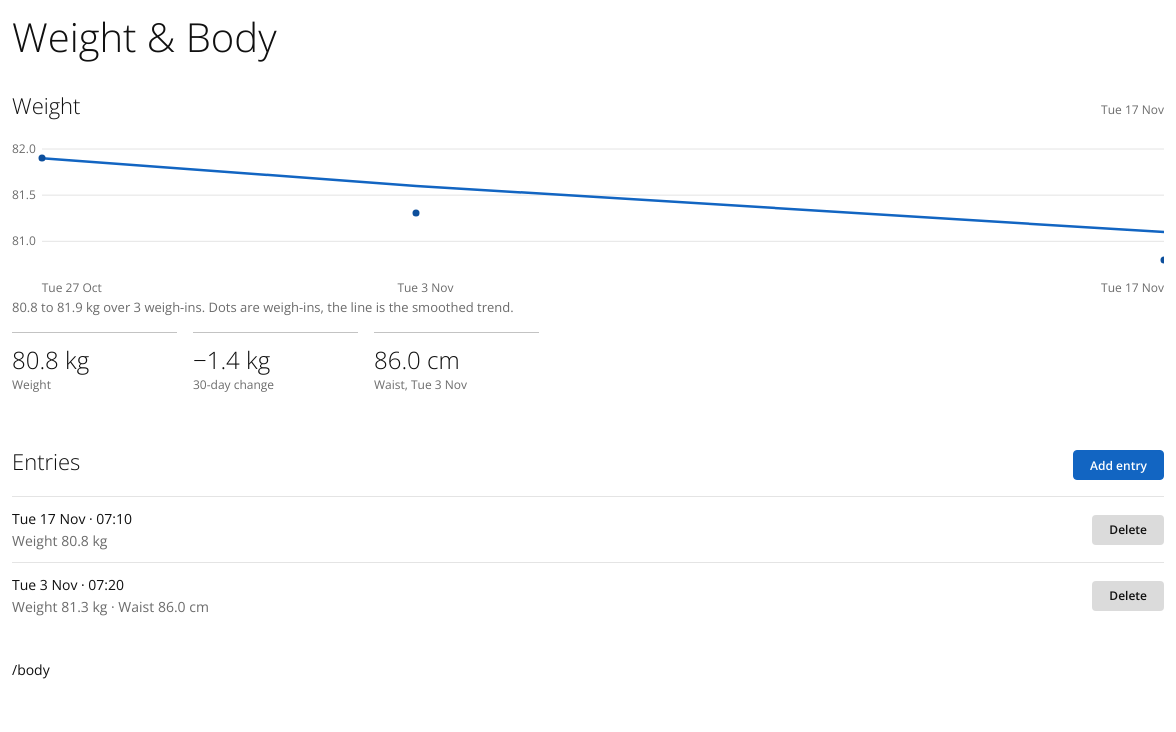
BodyPage (3k) › asks before deleting, and only then sends DELETE with the X-Nimrag header
Expected: the text "80.8 kg" is shown, [12,343,89,376]
Click the button "Delete" in the row of "Tue 17 Nov · 07:10".
click(1128, 530)  # box [1092,515,1164,545]
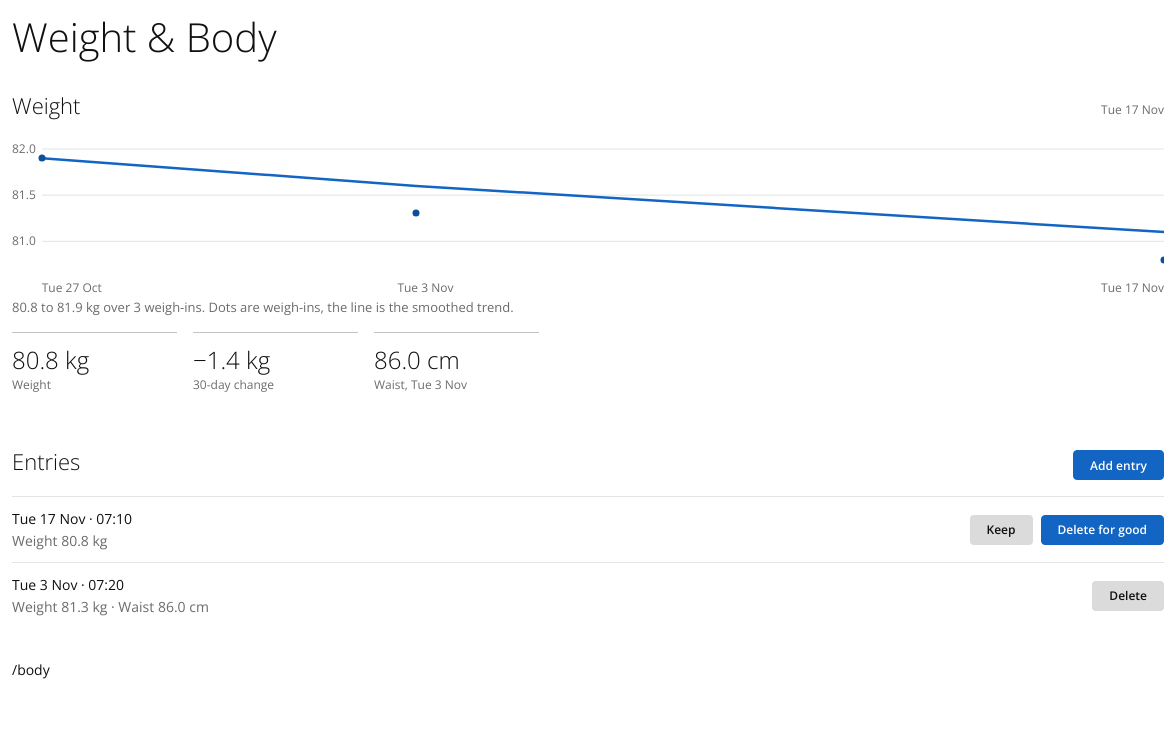
# changing one's mind sends nothing
Click the button "Keep".
click(1001, 530)  # box [970,515,1032,545]
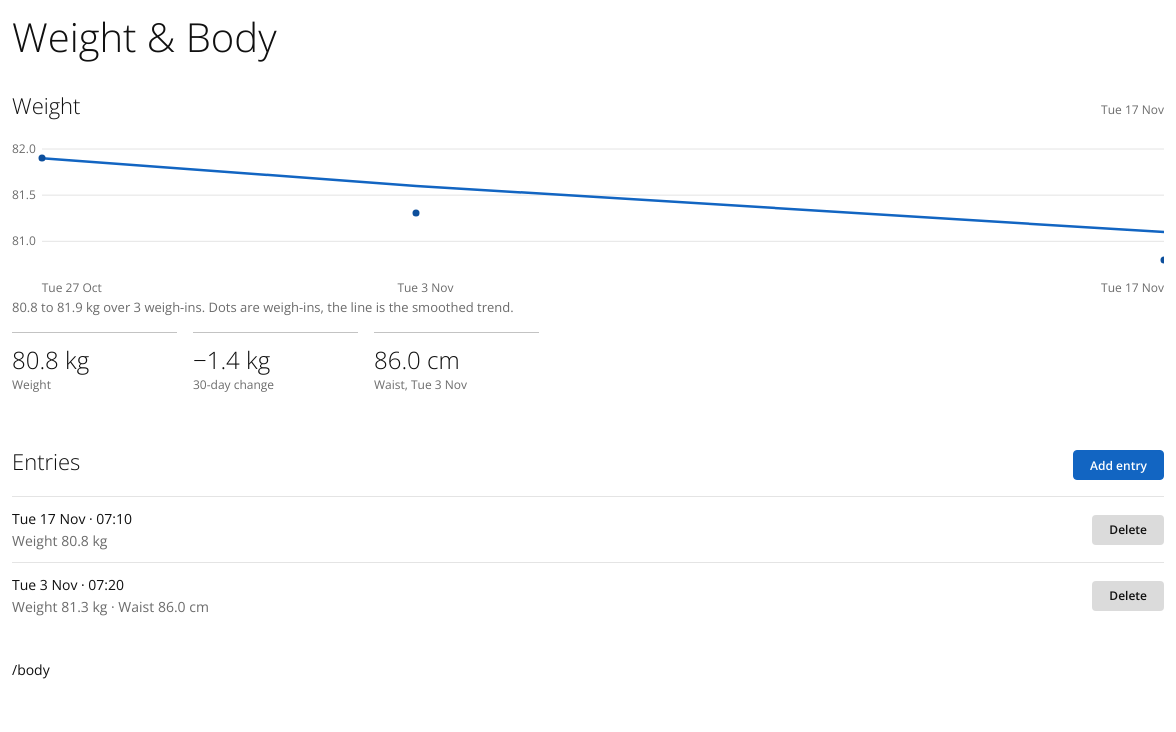
Click the button with aria-label "Delete entry of Tue 17 Nov · 07:10".
click(1128, 530)  # box [1092,515,1164,545]
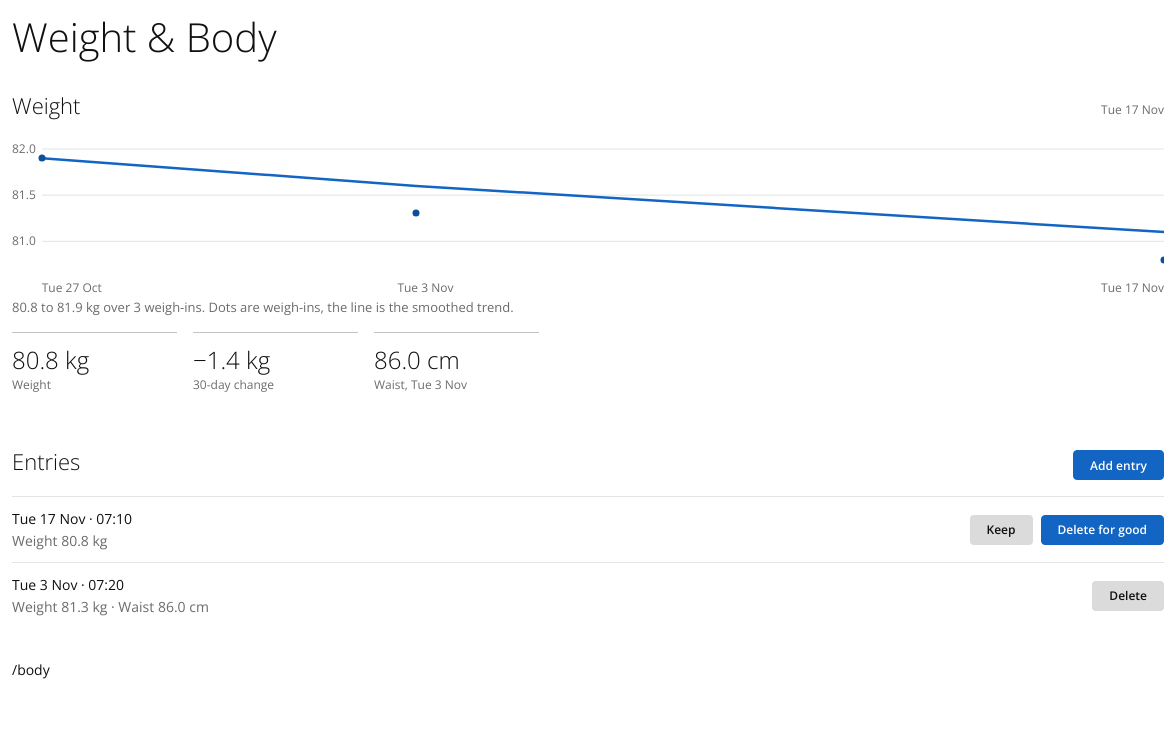
Click the button "Delete for good".
click(1102, 530)  # box [1040,515,1164,545]
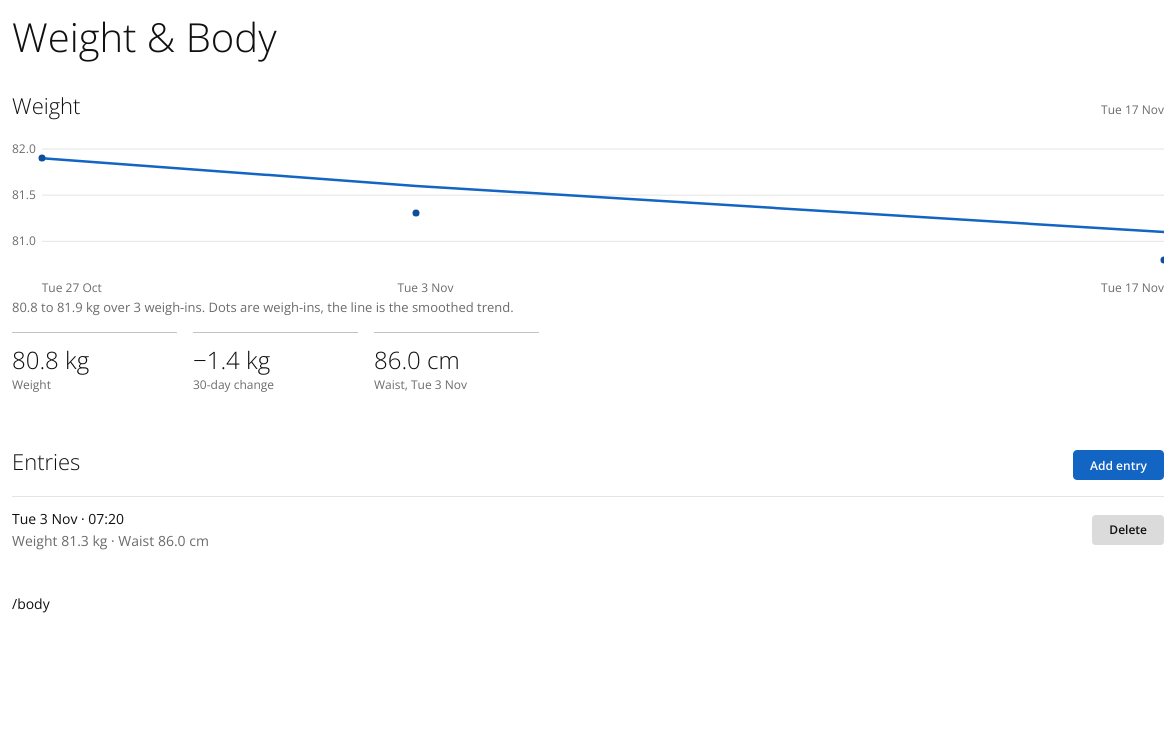
Result: the text "Tue 17 Nov · 07:10" is gone
